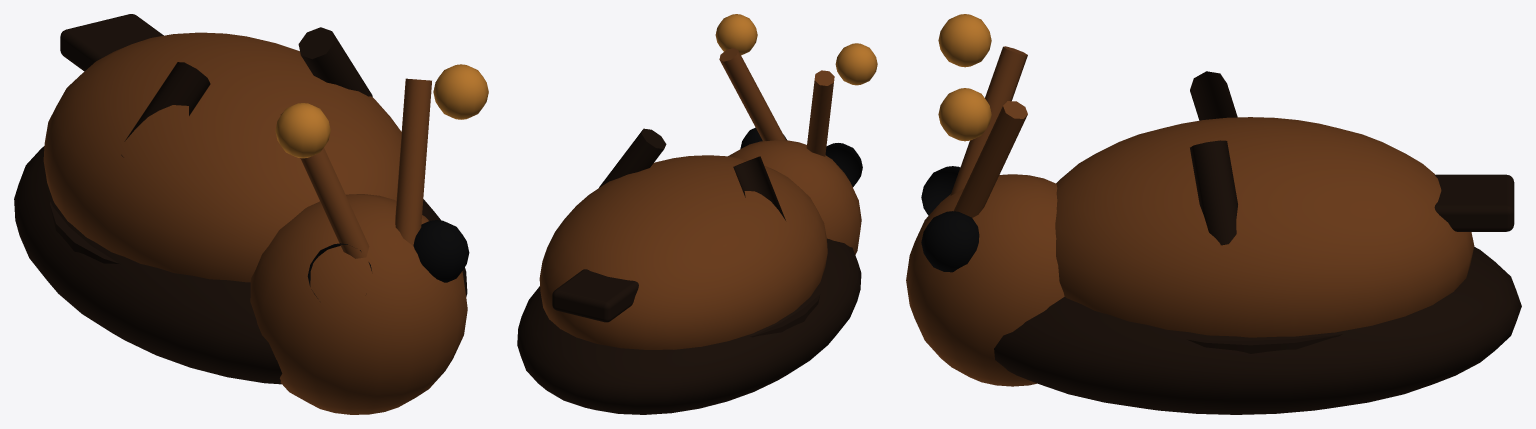
Rendered from coloso.obj.
3 views of the same model, side by side, from view 1: azimuth 30°, elevation 25°; view 2: azimuth 150°, elevation 25°; view 3: azimuth 270°, elevation 25° (orthographic). The views are drawn at different scales.
Size of the model in its own units: 0.472 by 0.446 by 0.7635.
